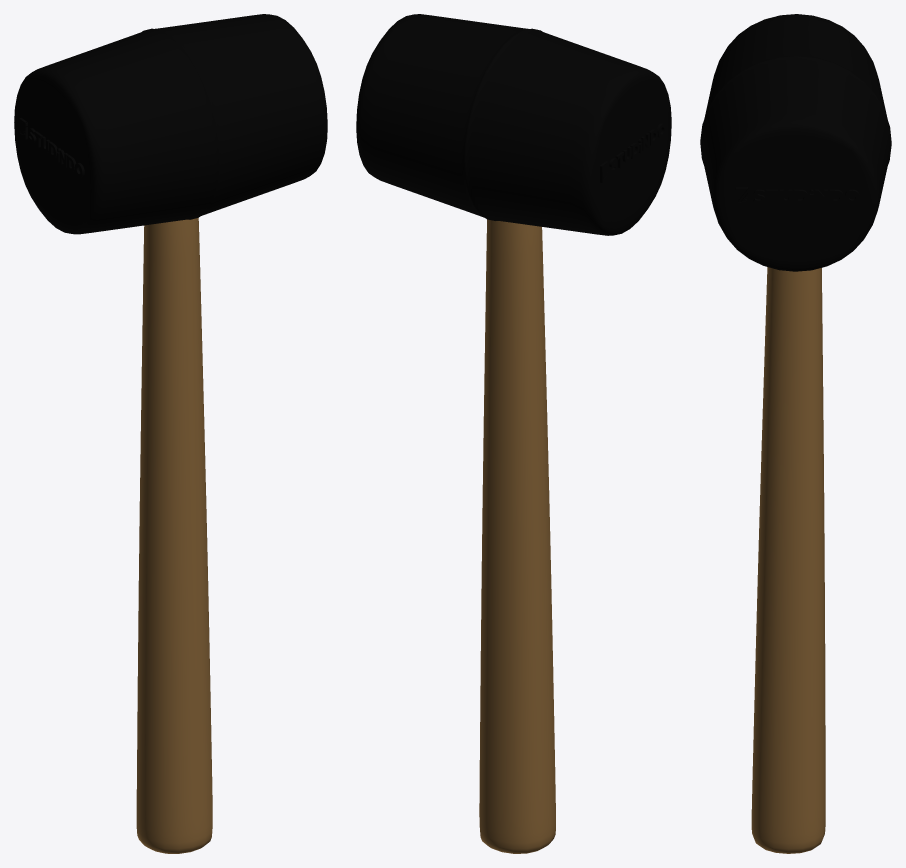
3 views of the same model, side by side, from view 1: azimuth 30°, elevation 25°; view 2: azimuth 150°, elevation 25°; view 3: azimuth 270°, elevation 25° (orthographic). The views are drawn at different scales.
Visible parts, largest first — view 1: Cube, Studindo.001; view 2: Cube, Studindo.001; view 3: Cube, Studindo.
Boxes of the visible parts, x1=… form: Cube: x1=14, y1=14, x2=327, y2=853; Studindo.001: x1=19, y1=118, x2=84, y2=177; Cube: x1=356, y1=14, x2=671, y2=853; Studindo.001: x1=600, y1=123, x2=666, y2=183; Cube: x1=700, y1=14, x2=891, y2=853; Studindo: x1=735, y1=187, x2=859, y2=205.
Bounding box in the file's own units: 0.1037 × 0.3326 × 0.0733.
